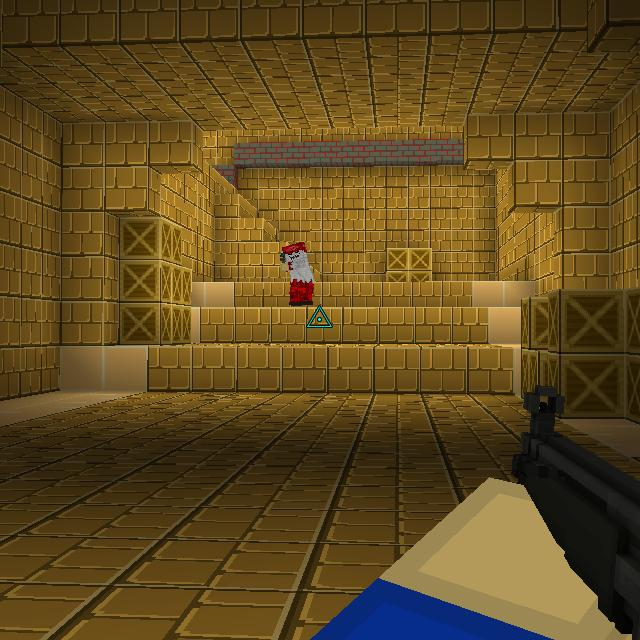enemy: (278, 241, 316, 308)
